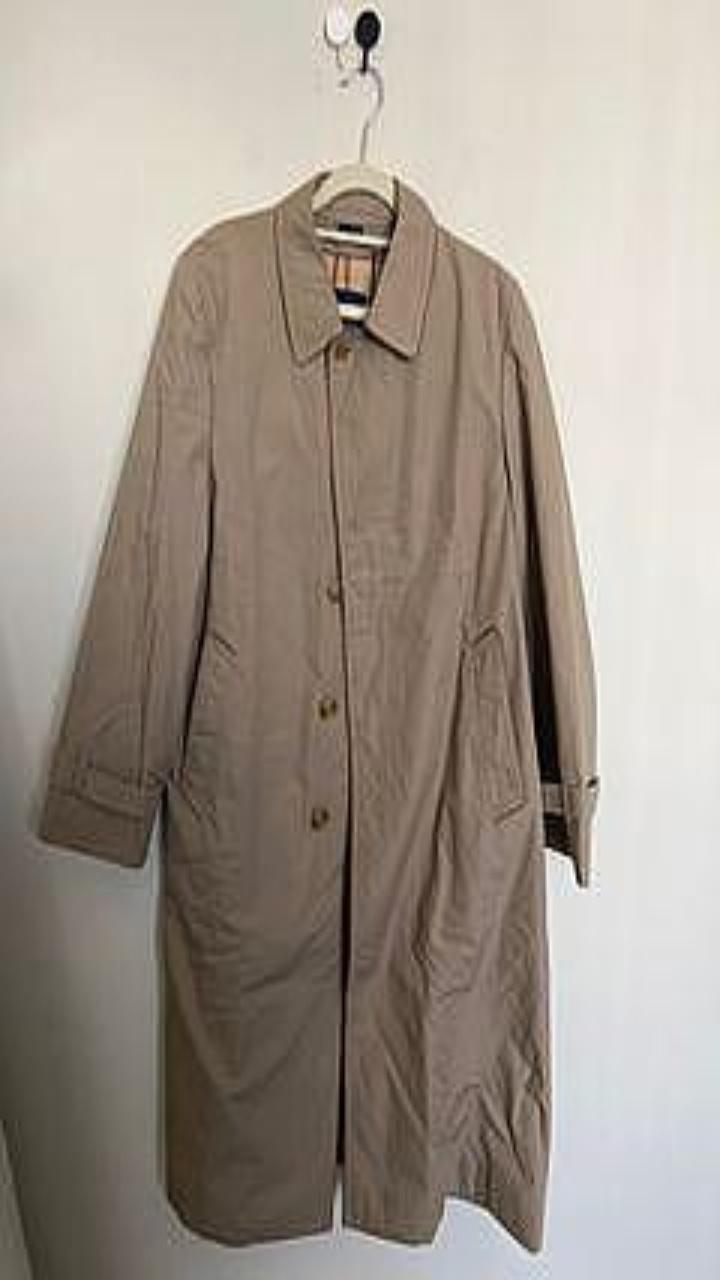Coat: (39, 171, 598, 1251)
